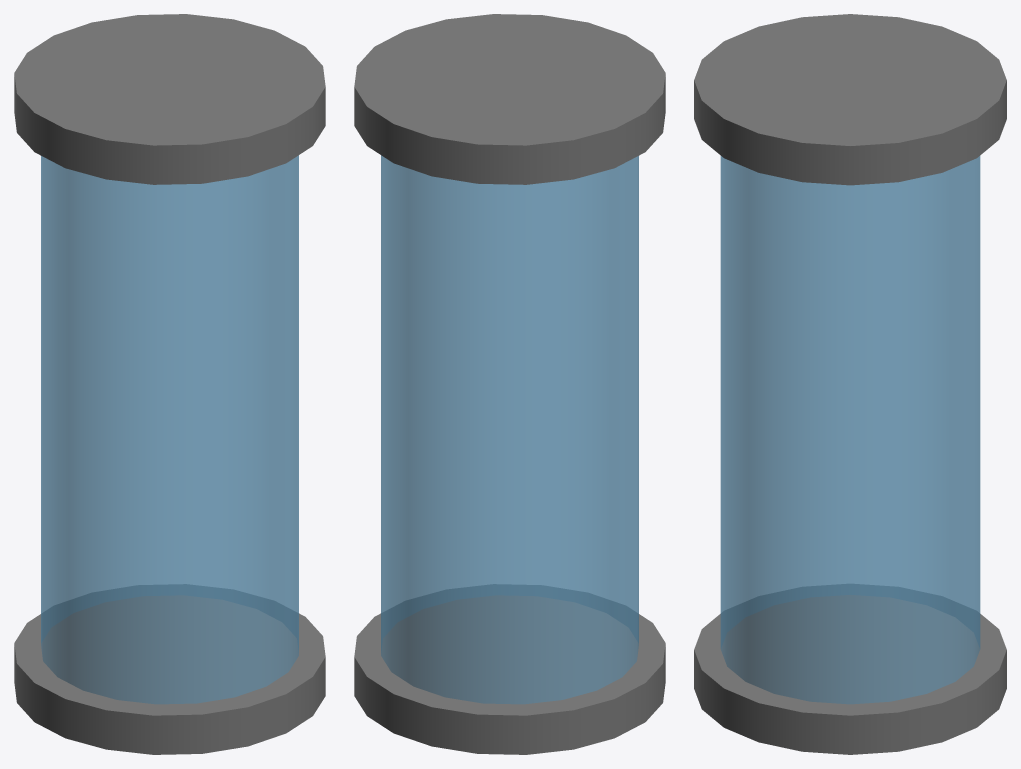
File: lab_tube.fbx
The picture shows the model from 3 angles, left to right: view 1: azimuth 30°, elevation 25°; view 2: azimuth 150°, elevation 25°; view 3: azimuth 270°, elevation 25°; orthographic projection.
Visible parts, largest first — view 1: pCylinder2, pCylinder3, pCylinder1; view 2: pCylinder2, pCylinder3, pCylinder1; view 3: pCylinder2, pCylinder3, pCylinder1.
Boxes of the visible parts, x1=… form: pCylinder2: x1=41, y1=155, x2=298, y2=704; pCylinder3: x1=14, y1=14, x2=325, y2=184; pCylinder1: x1=14, y1=584, x2=325, y2=754; pCylinder2: x1=381, y1=155, x2=638, y2=704; pCylinder3: x1=354, y1=14, x2=665, y2=184; pCylinder1: x1=354, y1=584, x2=665, y2=754; pCylinder2: x1=720, y1=156, x2=980, y2=704; pCylinder3: x1=694, y1=14, x2=1006, y2=185; pCylinder1: x1=694, y1=584, x2=1006, y2=754.
Size of the model in its own units: 2 by 4.3 by 2.
